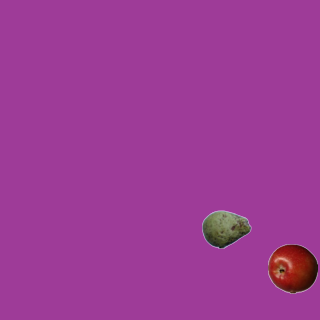Apple Braeburn: (267, 243, 317, 293)
Pear Stone: (201, 204, 251, 254)
